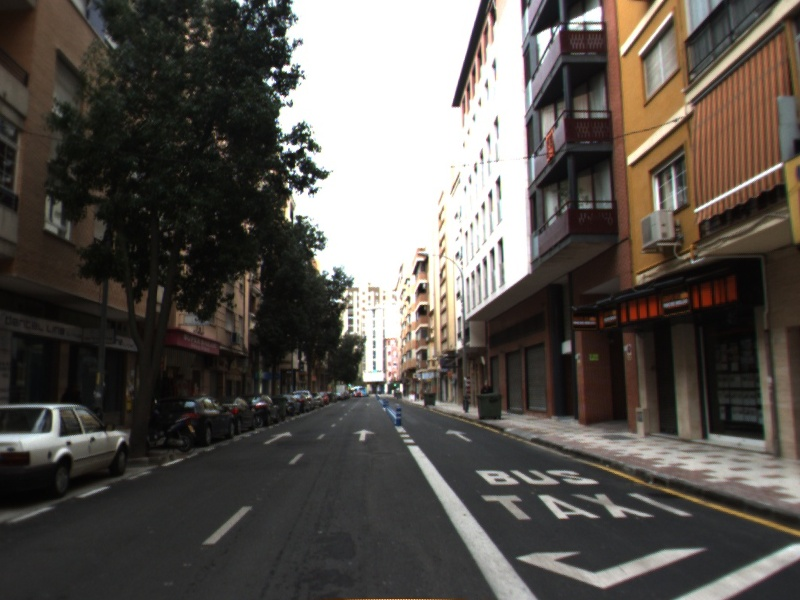STRAIGHT: (262, 430, 294, 446), (444, 427, 474, 444), (350, 427, 378, 443)
